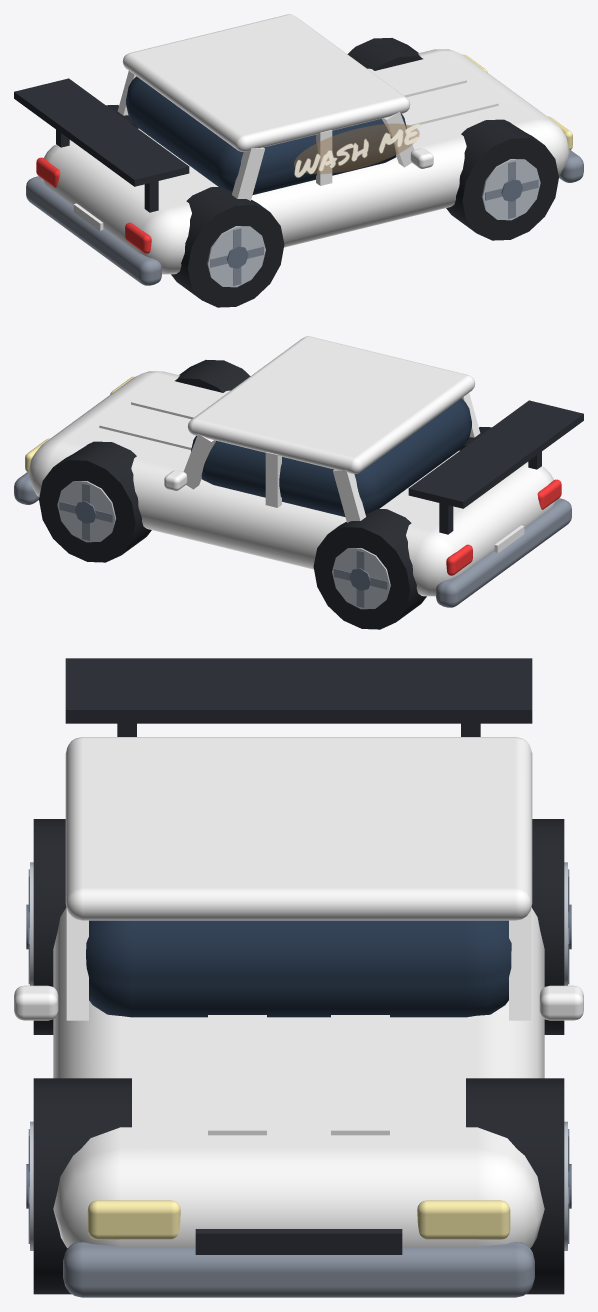
File: car_sports.glb
The picture shows the model from 3 angles, top to bottom: view 1: azimuth 30°, elevation 25°; view 2: azimuth 150°, elevation 25°; view 3: azimuth 270°, elevation 25°; orthographic projection. The views are drawn at different scales.
Parts seen in each view (by area): view 1: Paint, Trim, Wheel0, Wheel1, WashMe, Wheel2; view 2: Paint, Trim, Wheel2, Wheel3, Wheel0; view 3: Paint, Trim, Wheel0, Wheel2, Wheel1, Wheel3.
Boxes of the visible parts, box(x1,y1,x2,y2) form: Paint: box(41, 14, 569, 274); Trim: box(14, 54, 583, 285); Wheel0: box(446, 119, 558, 240); Wheel1: box(171, 187, 284, 307); WashMe: box(294, 123, 420, 177); Wheel2: box(347, 38, 422, 70); Paint: box(28, 336, 556, 596); Trim: box(14, 376, 583, 607); Wheel2: box(39, 441, 151, 562); Wheel3: box(313, 509, 426, 629); Wheel0: box(175, 360, 250, 392); Paint: box(14, 737, 583, 1248); Trim: box(63, 658, 534, 1297); Wheel0: box(26, 1078, 131, 1294); Wheel2: box(466, 1078, 571, 1294); Wheel1: box(26, 819, 66, 1034); Wheel3: box(531, 819, 571, 1034).
Bounding box in the file's own units: 4.12 × 1.37 × 2.32.
Materials: 7 (1 with a texture image).
